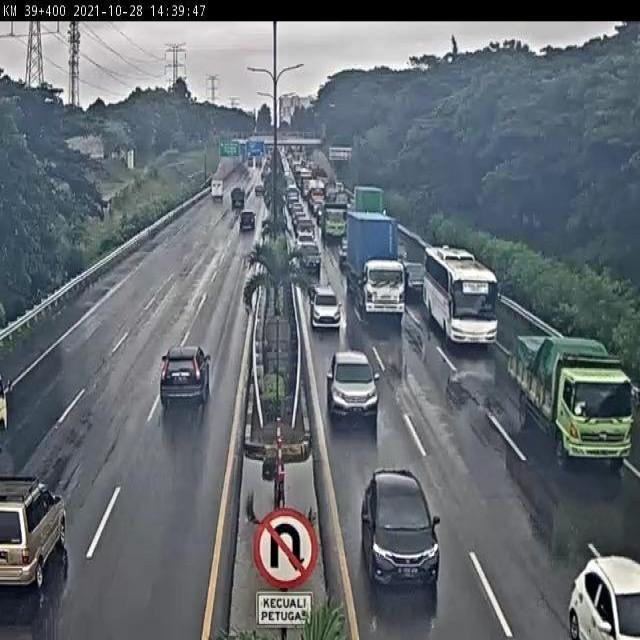big bus: (417, 236, 501, 353)
big truck: (343, 205, 410, 323), (353, 177, 390, 220)
car: (356, 462, 446, 602), (0, 459, 71, 608), (564, 536, 640, 640), (152, 338, 217, 413), (323, 344, 383, 424), (307, 283, 345, 336), (396, 253, 427, 299), (296, 238, 322, 274), (237, 211, 260, 240), (225, 187, 247, 216), (292, 224, 314, 248), (293, 210, 315, 230), (250, 186, 264, 202)
mid truck: (508, 326, 637, 466), (317, 201, 351, 244)
small truck: (206, 176, 226, 208)
